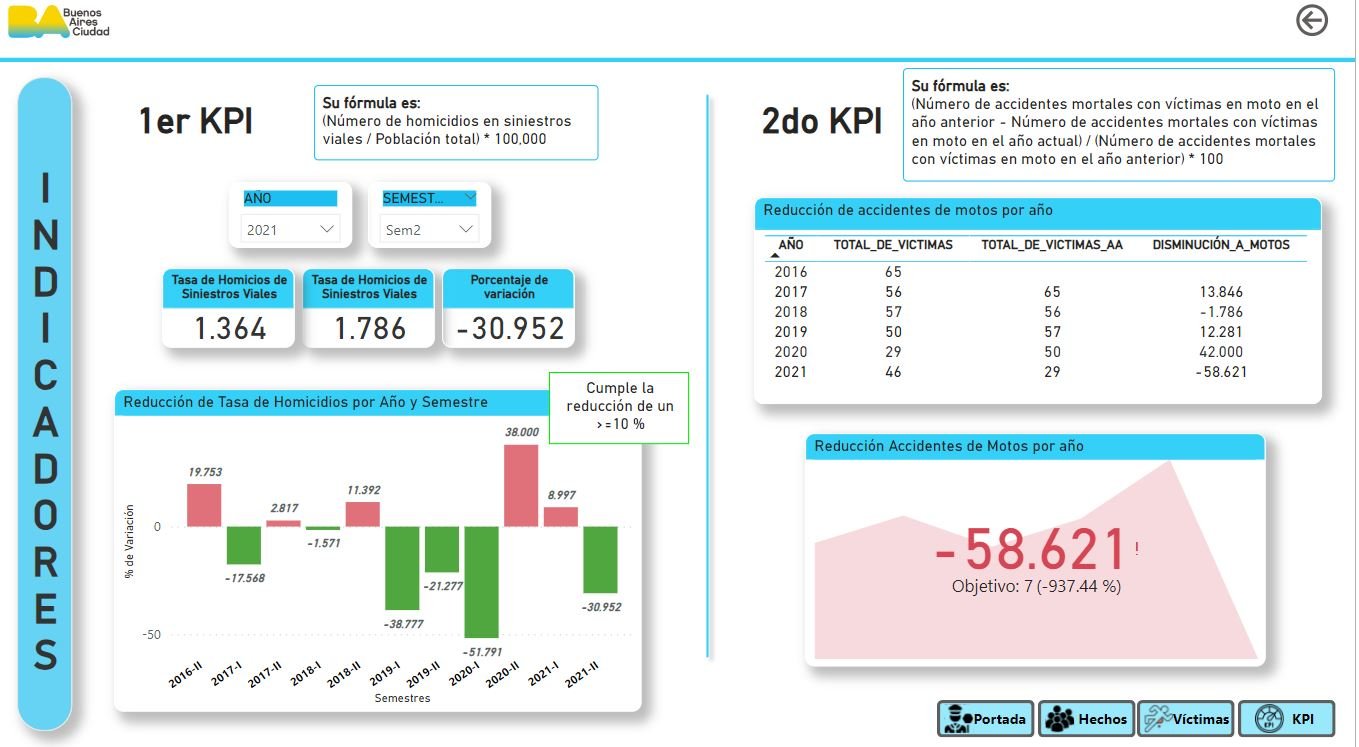

What the dashboard file says about the page in this screenshot:
{"tool":"powerbi","page":{"name":"KPI","canvas":[1280,720],"ordinal":3},"visuals":[{"type":"image","box":[6.2,0,104.6,64.7],"z":0},{"type":"shape","box":[0,51.4,1280.4,33.7],"z":1000},{"type":"textbox","box":[19.5,84.5,52,616.3],"z":3000},{"type":"actionButton","box":[886.4,671.1,91.9,35.3],"z":4000},{"type":"actionButton","box":[981,671.1,91.9,35.3],"z":5000},{"type":"actionButton","box":[1074.8,671.1,91.9,35.3],"z":6000},{"type":"actionButton","box":[1169.5,671.1,91.9,35.3],"z":7000},{"type":"actionButton","box":[1219.7,11.1,48.3,39.9],"z":8000},{"type":"card","title":"Tasa de Homicios de Siniestros Viales","fields":{"Values":["Median(KPIM.TASA_SEMESTRAL_ANTERIOR)"]},"box":[288.2,264.7,125.3,75.3],"z":10000},{"type":"card","title":"Tasa de Homicios de Siniestros Viales","fields":{"Values":["Median(KPIM.TASA_SEMESTRAL)"]},"box":[156.4,264.7,125.3,75.3],"z":11000},{"type":"textbox","box":[126.8,102.1,138.6,51.6],"z":12000},{"type":"card","title":"Porcentaje de variación","fields":{"Values":["Min(KPIM.%_VARIACIÓN)"]},"box":[420.1,264.7,125.3,75.3],"z":13000},{"type":"textbox","box":[299.8,92.4,267.6,70.9],"z":14000},{"type":"slicer","title":"TOP 5 de Vehículos","fields":{"Values":["KPIM.AÑO"]},"box":[219.2,183.8,116.1,62.3],"z":16001},{"type":"clusteredColumnChart","title":"Reducción de Tasa de Homicidios por Año y Semestre","fields":{"Y":["Median(KPIM.%_VARIACIÓN)"],"Category":["KPIM.SEMESTRE_ID"]},"box":[110.7,378.3,496.5,304.1],"z":16002},{"type":"shape","box":[653.7,92.3,33,548.2],"z":16003},{"type":"slicer","title":"TOP 5 de Vehículos","fields":{"Values":["KPIM.Semestre"]},"box":[350.4,183.8,116.1,62.3],"z":16005},{"type":"textbox","box":[521.2,362.2,132.2,67.7],"z":16006},{"type":"tableEx","title":"Reducción de accidentes de motos por año","fields":{"Values":["KPIM2.AÑO","KPIM2.TOTAL_DE_VICTIMAS","KPIM2.TOTAL_DE_VICTIMAS_AA","KPIM2.DISMINUCIÓN_A_MOTOS"]},"box":[713.6,197.7,535.2,194.5],"z":16007},{"type":"textbox","box":[715.8,102.1,138.6,51.6],"z":16008},{"type":"textbox","box":[854.4,76.3,407.3,107.5],"z":16009},{"type":"kpi","title":"Reducción Accidentes de Motos por año","fields":{"TrendLine":["KPIM2.AÑO"],"Indicator":["Median(KPIM2.DISMINUCIÓN_A_MOTOS)"],"Goal":["KPIM2.ObjetivoMedidaMoto"]},"box":[762,420.2,434.2,220.3],"z":16010}]}

Visuals, with their boxes in screenshot pixels (x1, y1, x2, y2), scaled from the page's 1280x720 canvas onto the 1359x747 screenshot:
image: bbox(7, 0, 118, 67)
shape: bbox(0, 53, 1358, 88)
textbox: bbox(21, 88, 76, 727)
actionButton: bbox(941, 696, 1039, 733)
actionButton: bbox(1042, 696, 1139, 733)
actionButton: bbox(1141, 696, 1239, 733)
actionButton: bbox(1242, 696, 1339, 733)
actionButton: bbox(1295, 12, 1346, 53)
"Tasa de Homicios de Siniestros Viales" card: bbox(306, 275, 439, 353)
"Tasa de Homicios de Siniestros Viales" card: bbox(166, 275, 299, 353)
textbox: bbox(135, 106, 282, 159)
"Porcentaje de variación" card: bbox(446, 275, 579, 353)
textbox: bbox(318, 96, 602, 169)
"TOP 5 de Vehículos" slicer: bbox(233, 191, 356, 255)
"Reducción de Tasa de Homicidios por Año y Semestre" clusteredColumnChart: bbox(118, 392, 645, 708)
shape: bbox(694, 96, 729, 665)
"TOP 5 de Vehículos" slicer: bbox(372, 191, 495, 255)
textbox: bbox(553, 376, 694, 446)
"Reducción de accidentes de motos por año" tableEx: bbox(758, 205, 1326, 407)
textbox: bbox(760, 106, 907, 159)
textbox: bbox(907, 79, 1340, 191)
"Reducción Accidentes de Motos por año" kpi: bbox(809, 436, 1270, 665)
